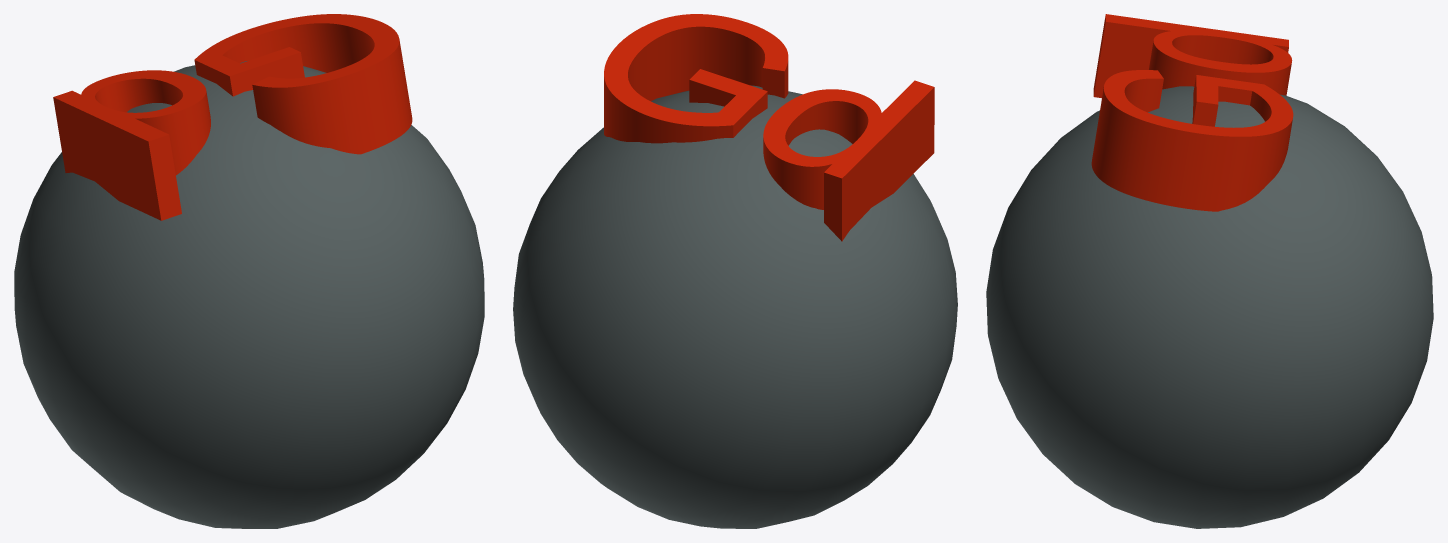
The picture shows the model from 3 angles, left to right: view 1: azimuth 30°, elevation 25°; view 2: azimuth 150°, elevation 25°; view 3: azimuth 270°, elevation 25°; orthographic projection. The views are drawn at different scales.
Parts seen in each view (by area): view 1: Gd; view 2: Gd; view 3: Gd.
Boxes of the visible parts, <box> form: Gd: <box>14,14,484,528</box>; Gd: <box>513,14,957,528</box>; Gd: <box>986,14,1433,528</box>.
Bounding box in the file's own units: 38.67 × 42.12 × 38.67.
